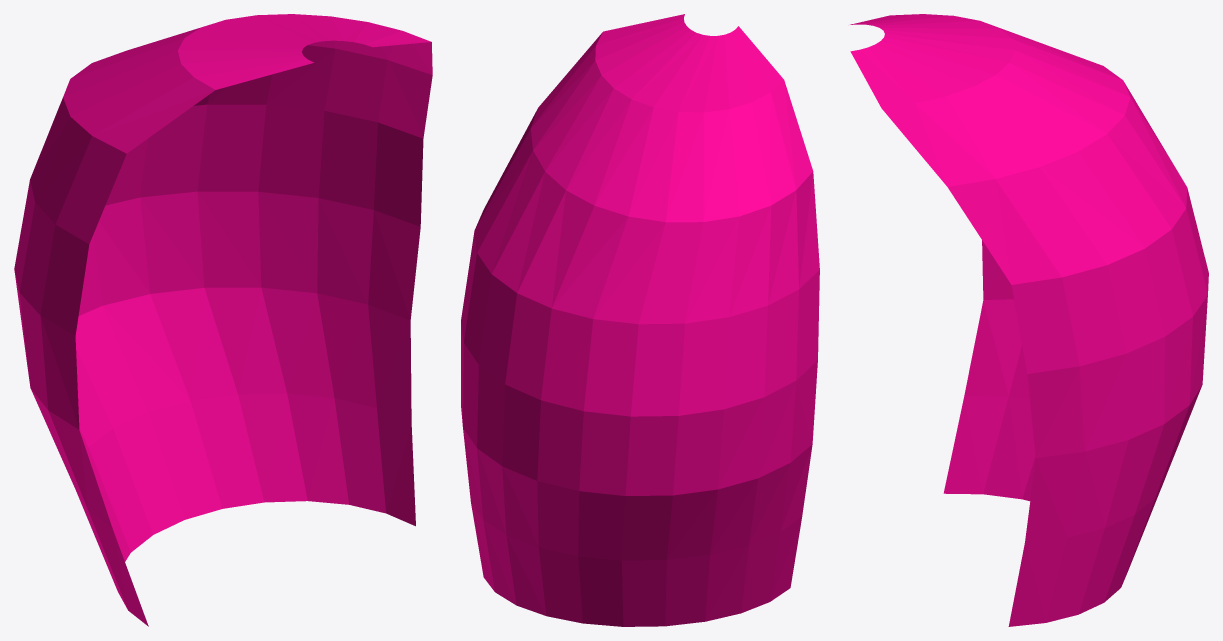
The model's file is spi_babord.dae.
3 renders of one model, left to right at view 1: azimuth 30°, elevation 25°; view 2: azimuth 150°, elevation 25°; view 3: azimuth 270°, elevation 25°, orthographic. The views are drawn at different scales.
Visible parts, largest first — view 1: SketchUp; view 2: SketchUp; view 3: SketchUp.
Boxes of the visible parts, x1=… form: SketchUp: x1=14, y1=14, x2=432, y2=626; SketchUp: x1=461, y1=14, x2=819, y2=626; SketchUp: x1=850, y1=14, x2=1208, y2=626.
Size of the model in its own units: 69101 by 63848 by 101094.
1 material, 1 textured.
